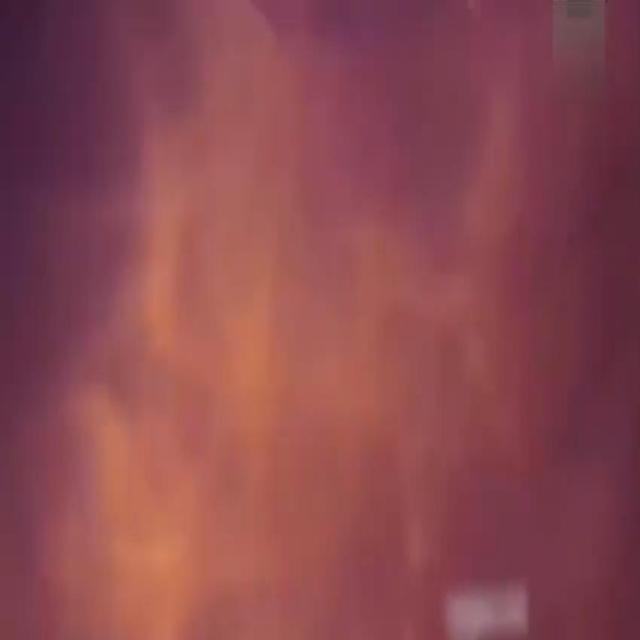smoke: (59, 45, 350, 640)
